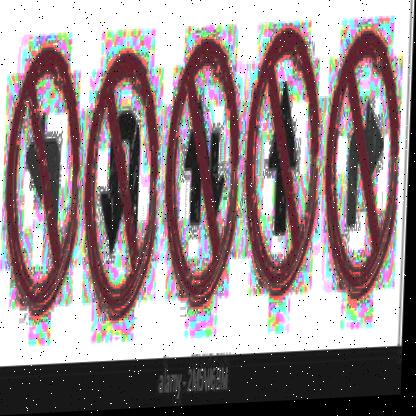No U-turn: (81, 49, 169, 319)
